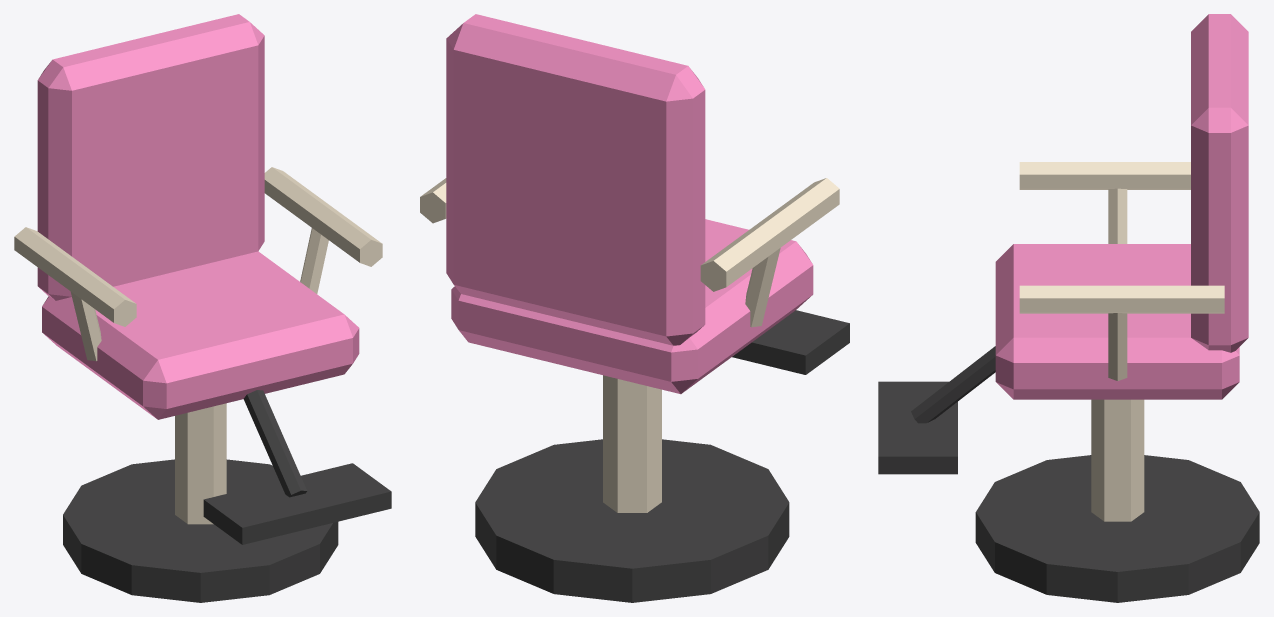
The picture shows the model from 3 angles, left to right: view 1: azimuth 30°, elevation 25°; view 2: azimuth 150°, elevation 25°; view 3: azimuth 270°, elevation 25°; orthographic projection. The views are drawn at different scales.
Visible parts, largest first — view 1: Back, Seat, Base, Footrest, Hydraulic post, Arm, Arm.001, Footrest support, Arm support, Arm support.001; view 2: Back, Base, Seat, Hydraulic post, Arm, Footrest, Arm support, Arm.001; view 3: Base, Seat, Back, Footrest, Hydraulic post, Arm.001, Arm, Footrest support, Arm support.001, Arm support.
Part boxes in pixels (left/top/right/bottom): Back: left=37, top=14, right=264, bottom=300; Seat: left=42, top=251, right=359, bottom=419; Base: left=63, top=459, right=338, bottom=602; Footrest: left=203, top=463, right=391, bottom=544; Hydraulic post: left=175, top=403, right=226, bottom=524; Arm: left=14, top=227, right=136, bottom=326; Arm.001: left=264, top=167, right=382, bottom=266; Footrest support: left=243, top=390, right=306, bottom=497; Arm support: left=70, top=291, right=101, bottom=361; Arm support.001: left=300, top=228, right=328, bottom=293; Back: left=446, top=14, right=705, bottom=345; Base: left=475, top=439, right=789, bottom=602; Seat: left=451, top=219, right=813, bottom=394; Hydraulic post: left=603, top=375, right=661, bottom=512; Arm: left=700, top=178, right=839, bottom=291; Footrest: left=732, top=310, right=849, bottom=374; Arm support: left=745, top=248, right=780, bottom=327; Arm.001: left=420, top=178, right=446, bottom=223; Base: left=975, top=455, right=1259, bottom=602; Seat: left=995, top=244, right=1239, bottom=399; Back: left=1191, top=14, right=1248, bottom=352; Footrest: left=878, top=381, right=957, bottom=474; Hydraulic post: left=1091, top=399, right=1144, bottom=521; Arm.001: left=1019, top=285, right=1224, bottom=313; Arm: left=1019, top=162, right=1190, bottom=189; Footrest support: left=911, top=346, right=995, bottom=423; Arm support.001: left=1108, top=313, right=1127, bottom=380; Arm support: left=1108, top=188, right=1127, bottom=243.
Bounding box in the file's own units: 72.06 × 120 × 86.
